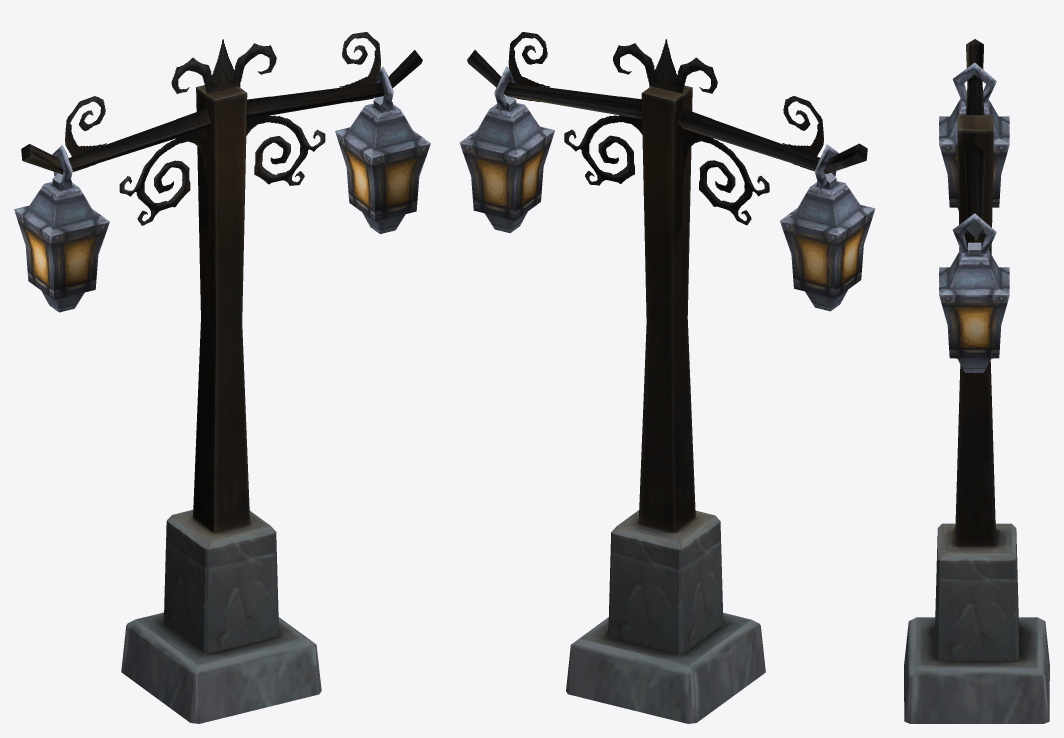
File: object_lampposts07.fbx
3 views of the same model, side by side, from view 1: azimuth 30°, elevation 25°; view 2: azimuth 150°, elevation 25°; view 3: azimuth 270°, elevation 25° (orthographic). The views are drawn at different scales.
Visible parts, largest first — view 1: object_lampposts07-0; view 2: object_lampposts07-0; view 3: object_lampposts07-0.
Boxes of the visible parts, x1,y1,x2,y2 form: object_lampposts07-0: [14, 32, 430, 723]; object_lampposts07-0: [459, 32, 875, 723]; object_lampposts07-0: [904, 39, 1049, 723].
Size of the model in its own units: 3.05 by 4.71 by 1.
